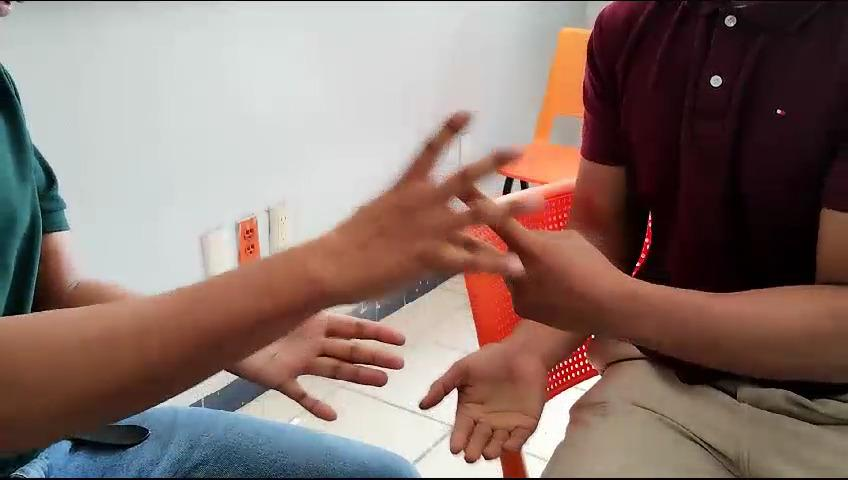Paper: (292, 85, 555, 321), (209, 296, 422, 440), (406, 331, 567, 470)
Scissor: (449, 161, 632, 344)
